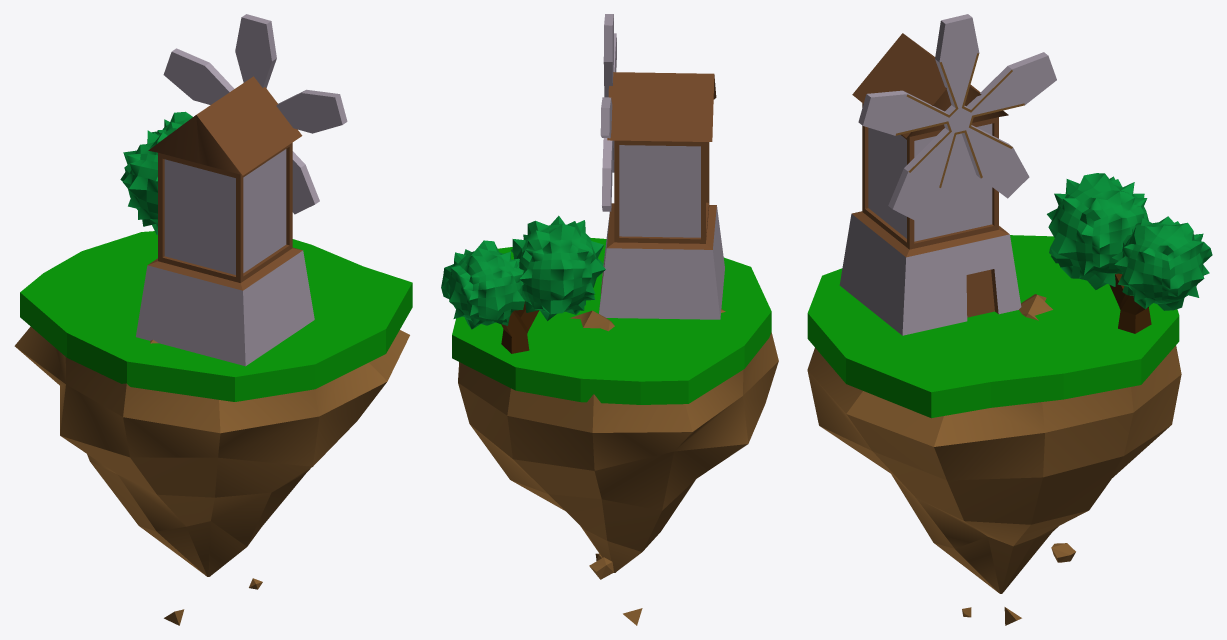
Rendered from low-poly-mill.obj.
The picture shows the model from 3 angles, left to right: view 1: azimuth 30°, elevation 25°; view 2: azimuth 150°, elevation 25°; view 3: azimuth 270°, elevation 25°; orthographic projection. The views are drawn at different scales.
Parts seen in each view (by area): view 1: Island, Mill, Green_platform, propeller, Tree; view 2: Island, Mill, Green_platform, Tree, propeller; view 3: Island, Green_platform, Mill, Tree, propeller.
Boxes of the visible parts, x1,y1,x2,y2 form: Island: [14, 326, 409, 625]; Mill: [136, 76, 314, 366]; Green_platform: [20, 231, 412, 401]; propeller: [163, 14, 347, 214]; Tree: [120, 111, 192, 234]; Island: [458, 309, 778, 625]; Mill: [599, 72, 724, 319]; Green_platform: [452, 237, 771, 404]; Tree: [441, 215, 605, 353]; propeller: [600, 14, 616, 211]; Island: [807, 294, 1181, 625]; Green_platform: [807, 235, 1179, 418]; Mill: [839, 33, 1021, 335]; Tree: [1047, 173, 1212, 333]; propeller: [858, 14, 1056, 220].
Size of the model in its own units: 105 by 195 by 113.
